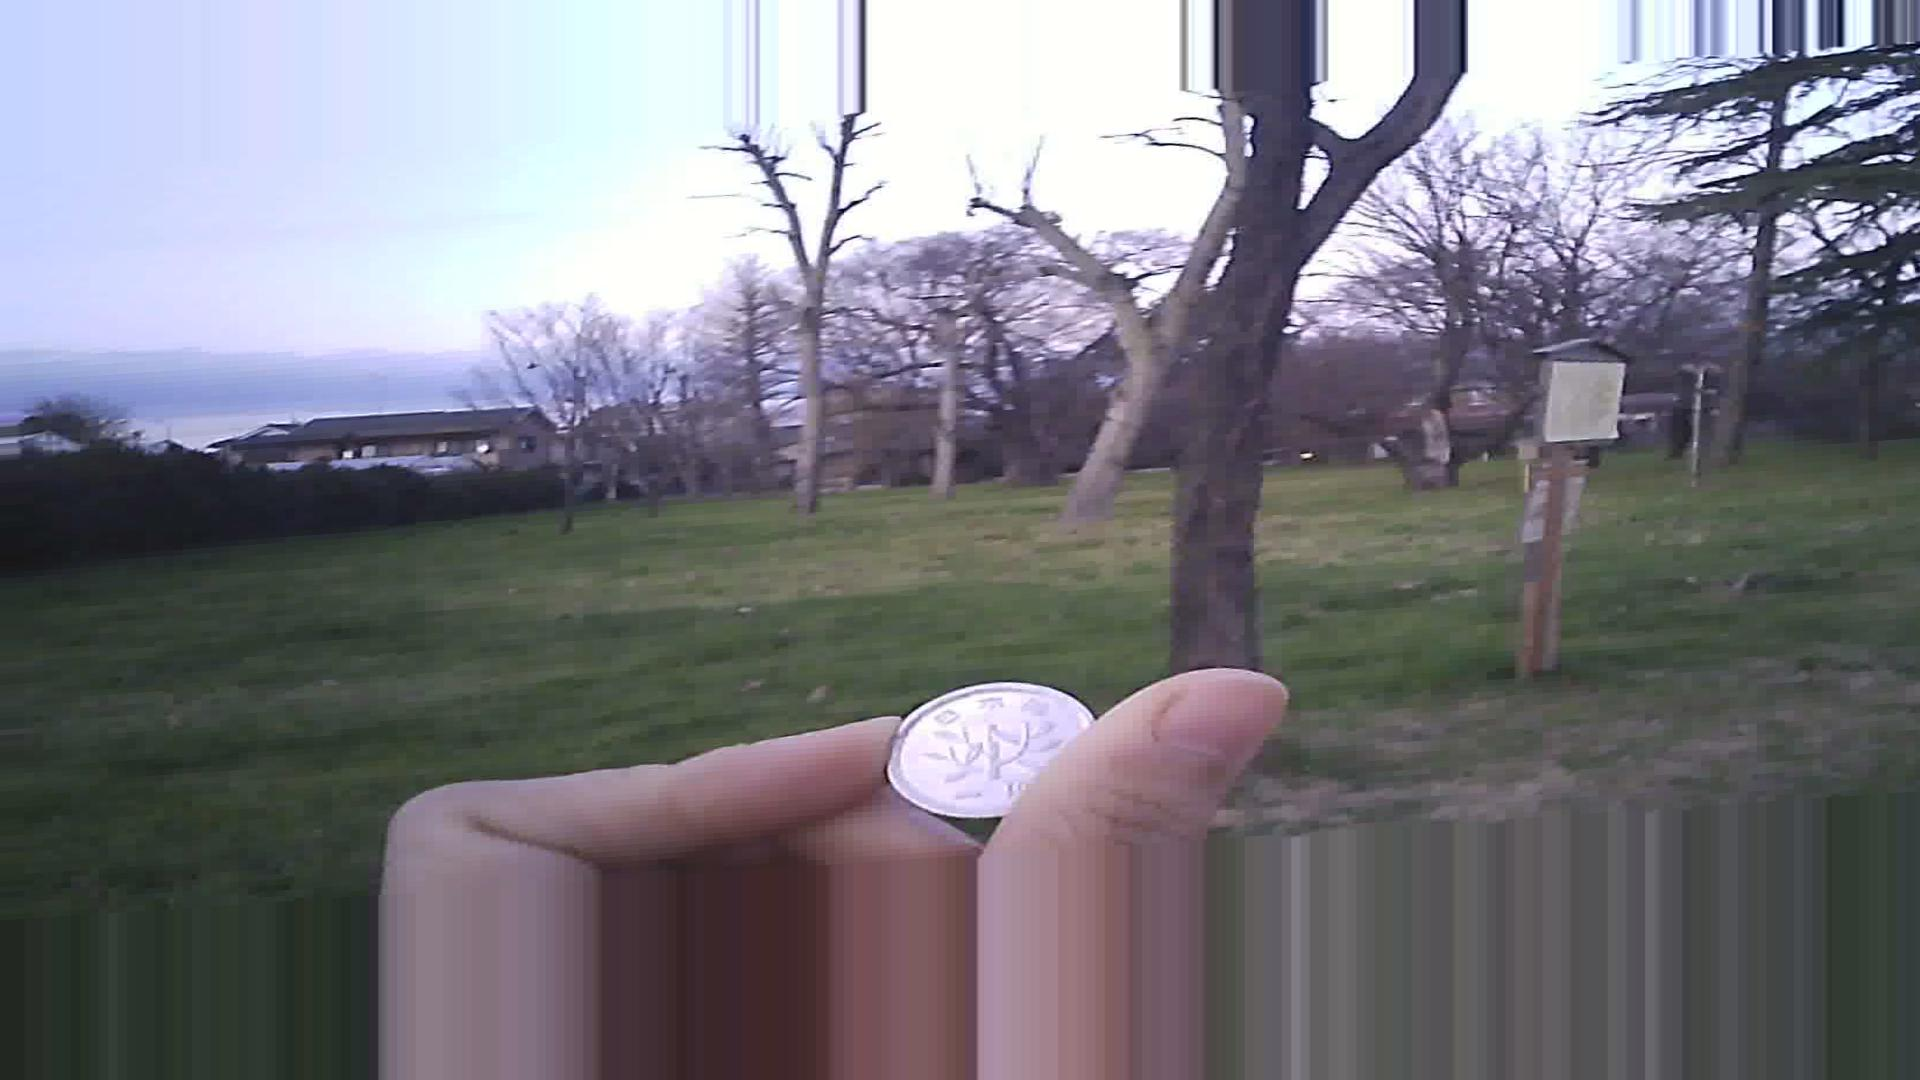1 Yen: (865, 684, 1091, 814)
